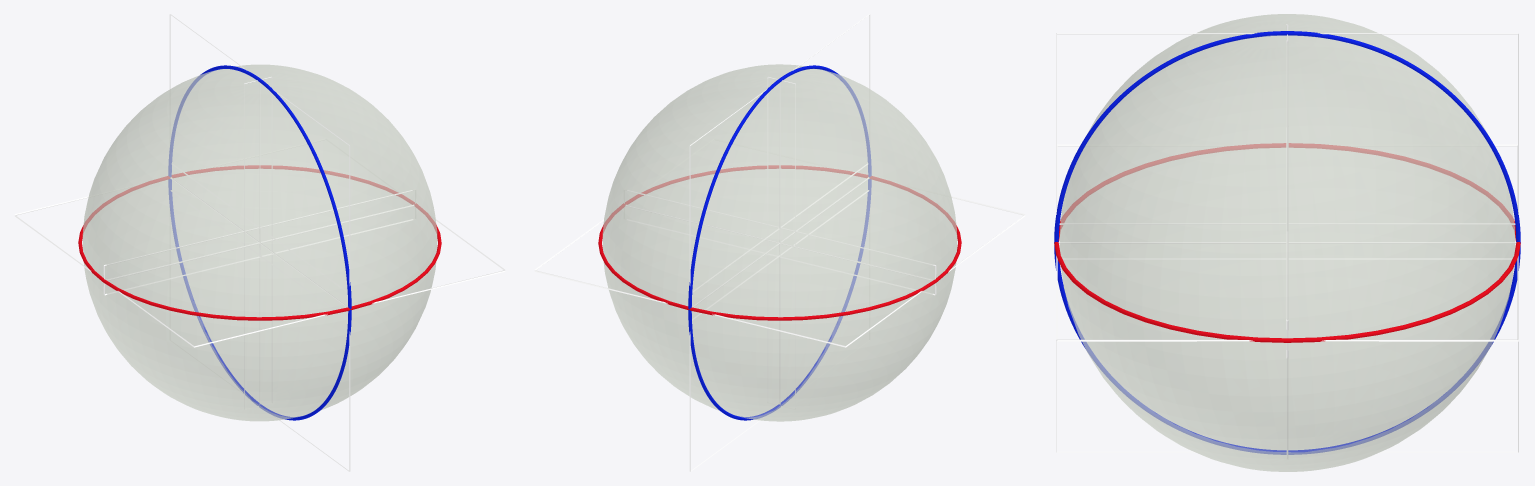
The model's file is asset.glb.
3 views of the same model, side by side, from view 1: azimuth 30°, elevation 25°; view 2: azimuth 150°, elevation 25°; view 3: azimuth 270°, elevation 25° (orthographic). The views are drawn at different scales.
Size of the model in its own units: 2.02 by 2.02 by 2.02.
